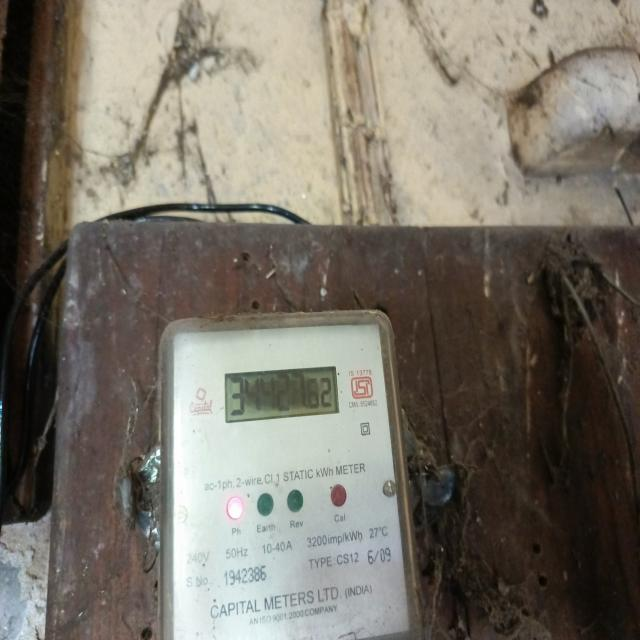display: (220, 366, 341, 424)
